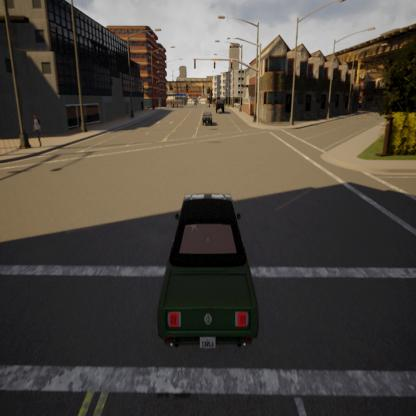Cars: (145, 165, 269, 347), (213, 92, 226, 114), (202, 108, 215, 128)
Pedestrian: (31, 111, 45, 147)
